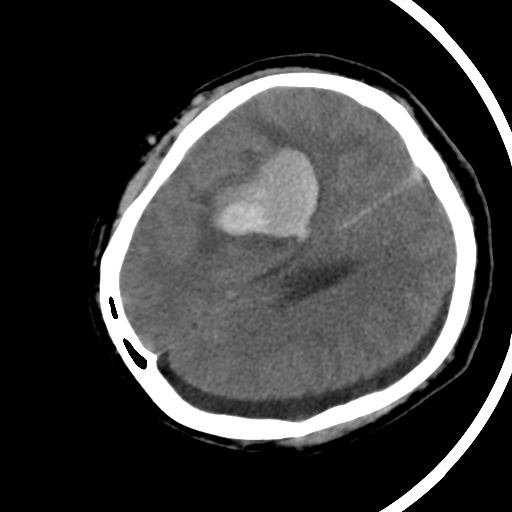a: (181, 113, 334, 274)
